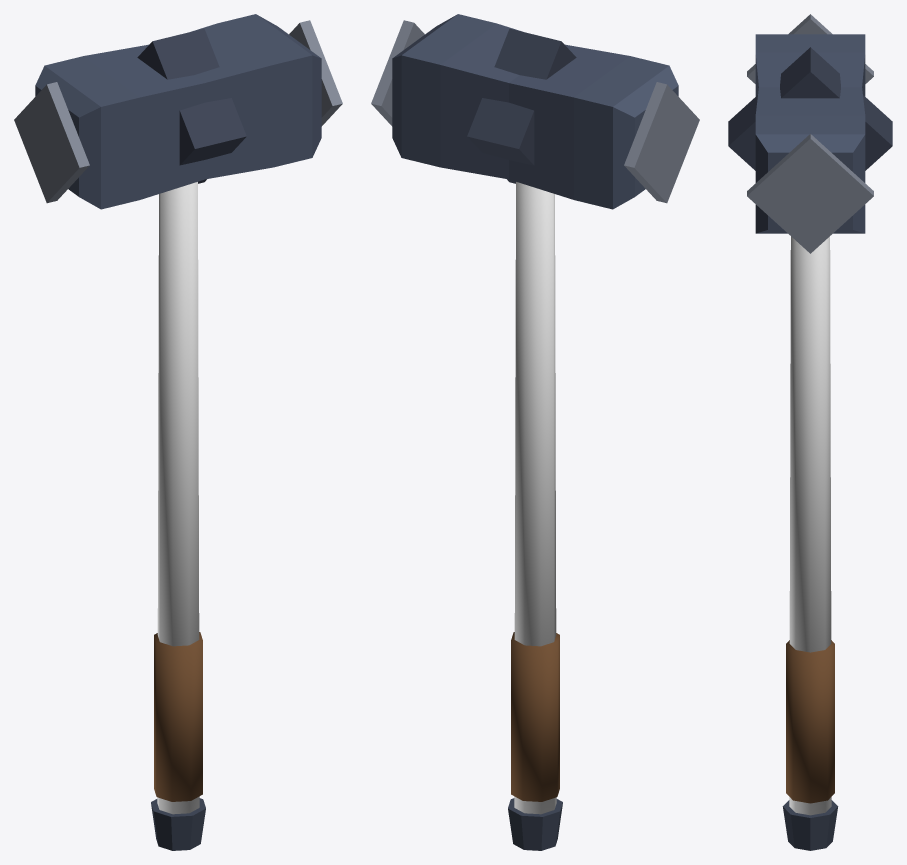
The model's file is lead_hammer.glb.
3 views of the same model, side by side, from view 1: azimuth 30°, elevation 25°; view 2: azimuth 150°, elevation 25°; view 3: azimuth 270°, elevation 25° (orthographic). The views are drawn at different scales.
Parts seen in each view (by area): view 1: lead_hammer_v0; view 2: lead_hammer_v0; view 3: lead_hammer_v0.
Part boxes in pixels (x1,y1,x2,y2): lead_hammer_v0: (14, 14, 342, 850); lead_hammer_v0: (371, 14, 699, 850); lead_hammer_v0: (728, 14, 892, 850).
Bounding box in the file's own units: 0.304 × 0.8898 × 0.1696.
